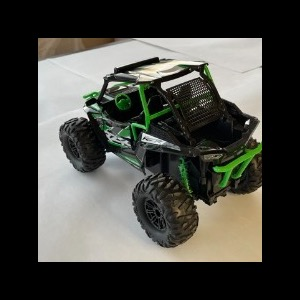polaris: (58, 57, 261, 249)
